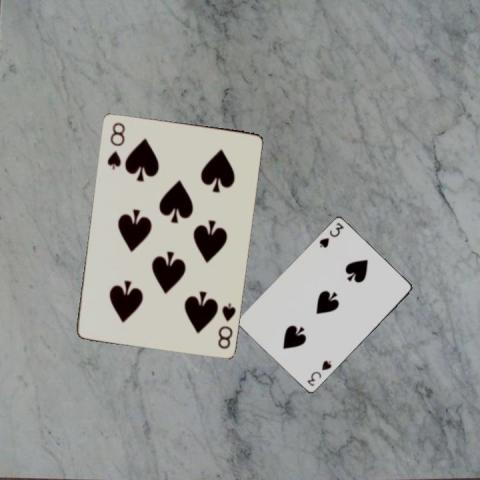3s: (304, 358, 333, 388), (316, 220, 345, 249)
8s: (214, 299, 237, 350), (104, 119, 126, 171)
